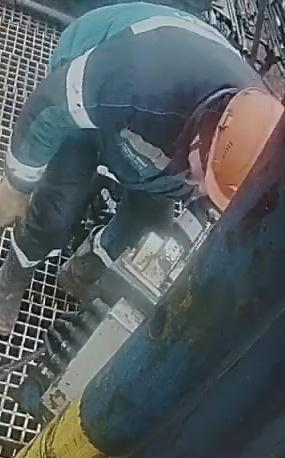gloves: (0, 174, 36, 229)
helmet: (201, 84, 285, 212)
vest: (64, 15, 271, 199)
